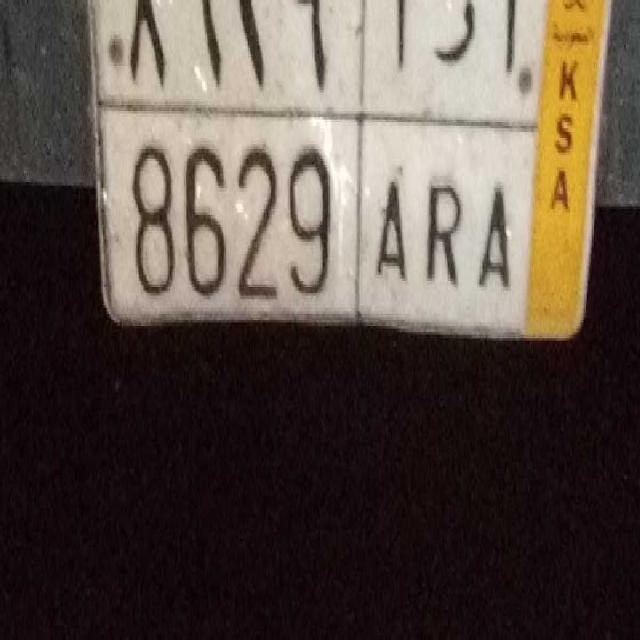license_plate: (95, 100, 532, 348)
